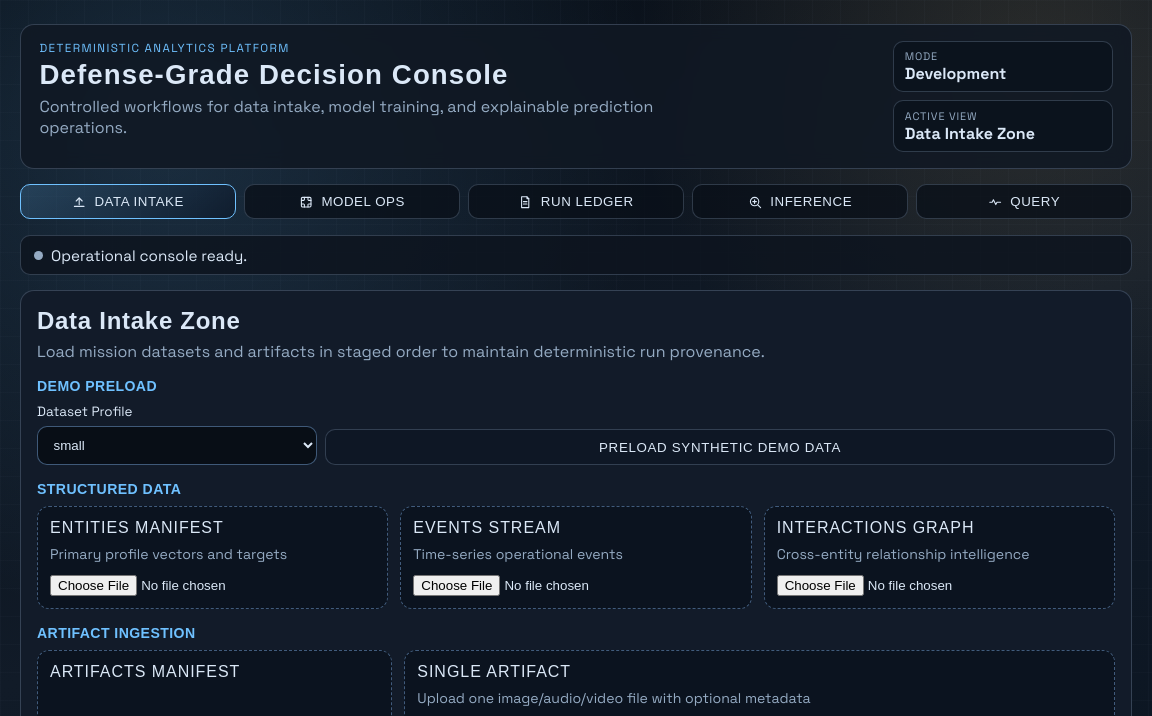
Test: App integration flow › preloads synthetic demo dataset from Dataset tab
The width and height of the screenshot is (1152, 716).
Select "small" in the dropdown with test id "input-demo-profile" at point(177, 446), box x1=37 y1=426 x2=317 y2=465
Click the button with test id "action-preload-demo".
click(720, 447)  # box x1=325 y1=429 x2=1115 y2=465
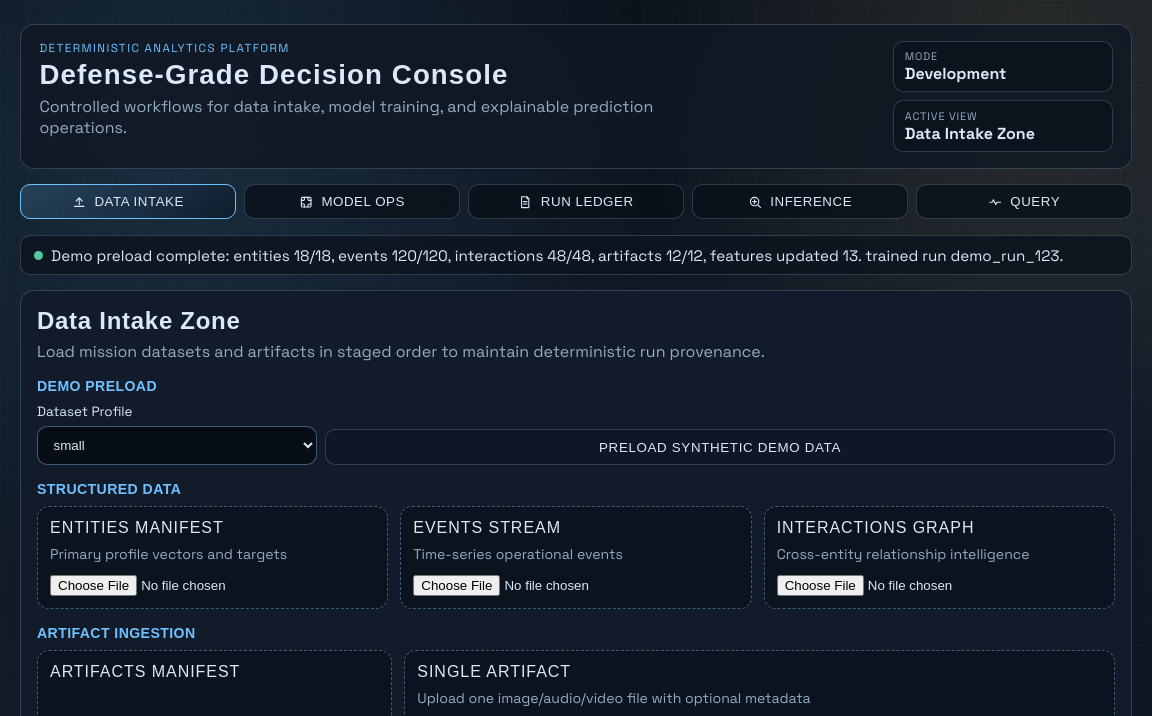
Now the element with test id "status-banner" shows "Demo preload complete: entities 18/18", box x1=51 y1=246 x2=1063 y2=265
